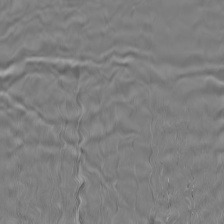cavities: (117, 72, 224, 126)
